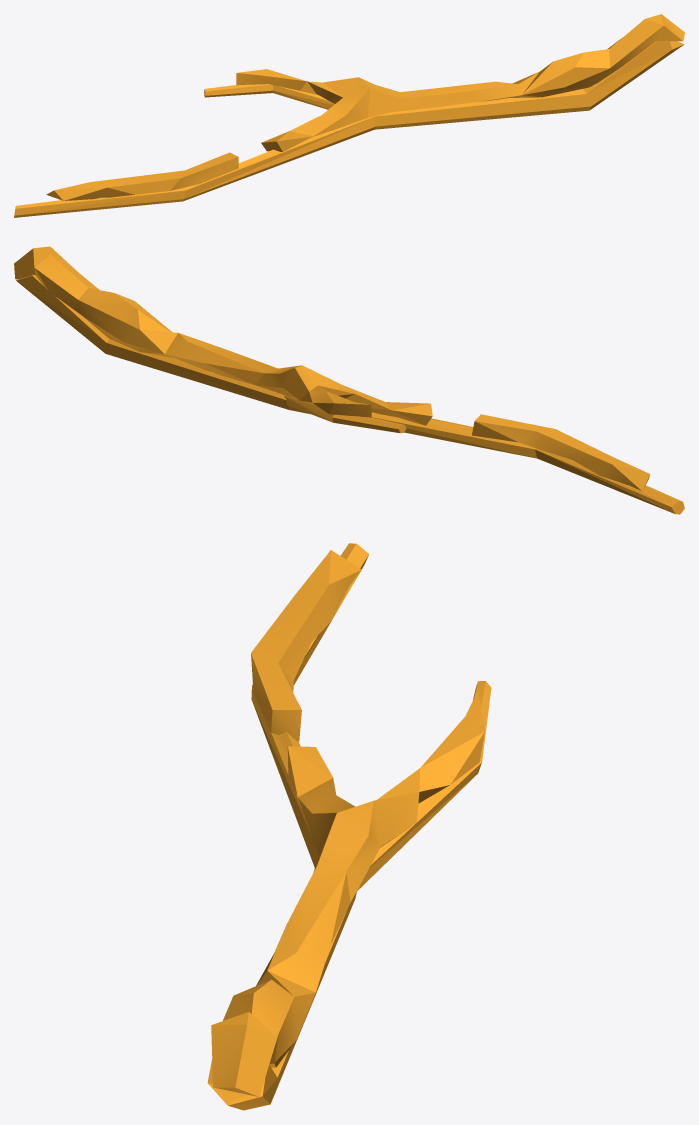
Rendered from SM_Tree_Beech_Branch_A_Snow.fbx.
3 renders of one model, top to bottom at view 1: azimuth 30°, elevation 25°; view 2: azimuth 150°, elevation 25°; view 3: azimuth 270°, elevation 25°, orthographic. The views are drawn at different scales.
Visible parts, largest first — view 1: tree-beech-branch-a-snow; view 2: tree-beech-branch-a-snow; view 3: tree-beech-branch-a-snow.
Part boxes in pixels (<box>): tree-beech-branch-a-snow: <box>14,14,684,217</box>; tree-beech-branch-a-snow: <box>14,246,684,514</box>; tree-beech-branch-a-snow: <box>207,543,491,1110</box>.
Bounding box in the file's own units: 3.67 × 0.4263 × 0.7013.
